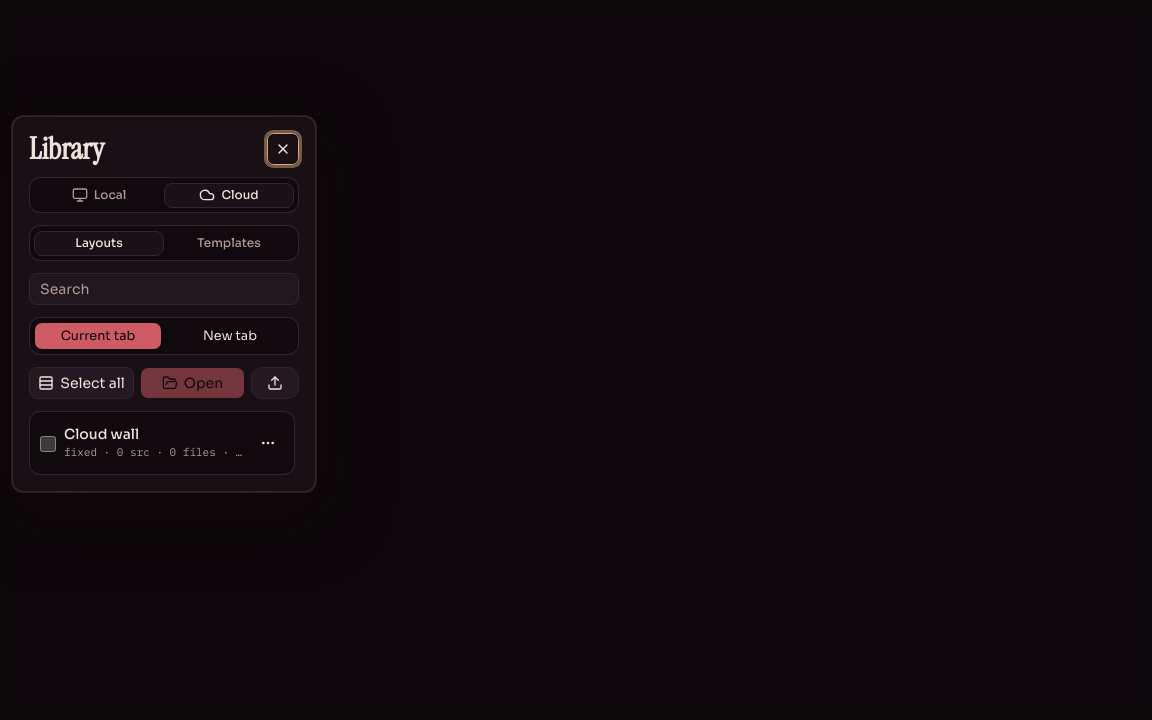
Test: cloud save UI › closes the Cloud row actions menu after opening the share link dialog
Click the button named "More actions for Cloud wall": point(268, 443) [252, 427, 284, 459]
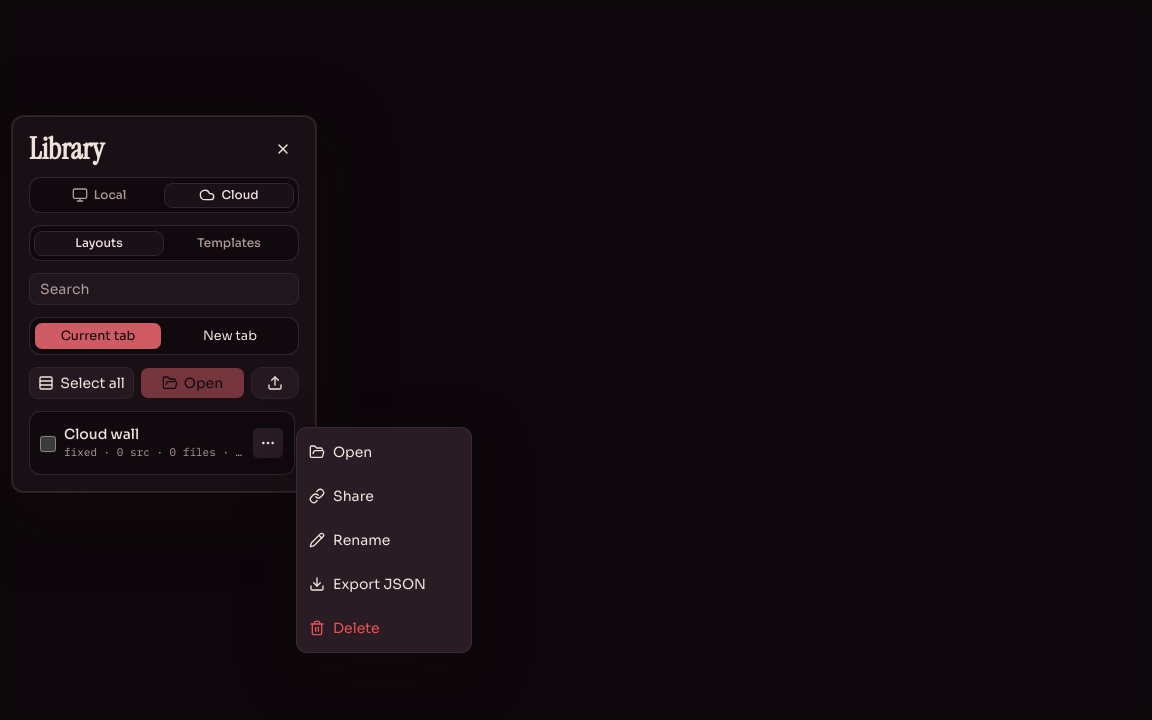
Click the menu item "Share": point(384, 496) [301, 476, 467, 516]
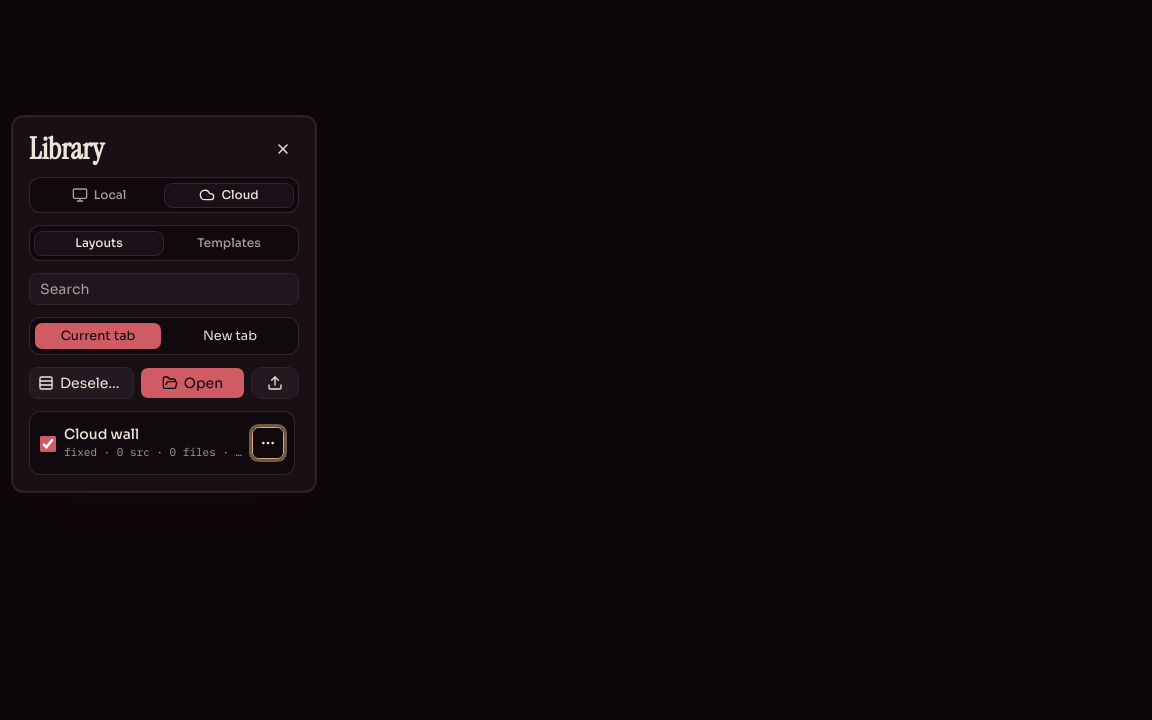
Expected: the menu item "Share" is gone
